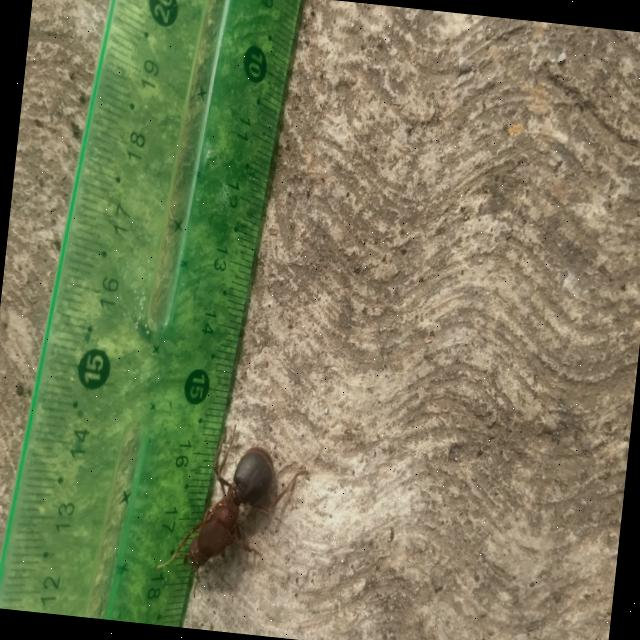Alive-Female-Dealate: (153, 418, 312, 608)
